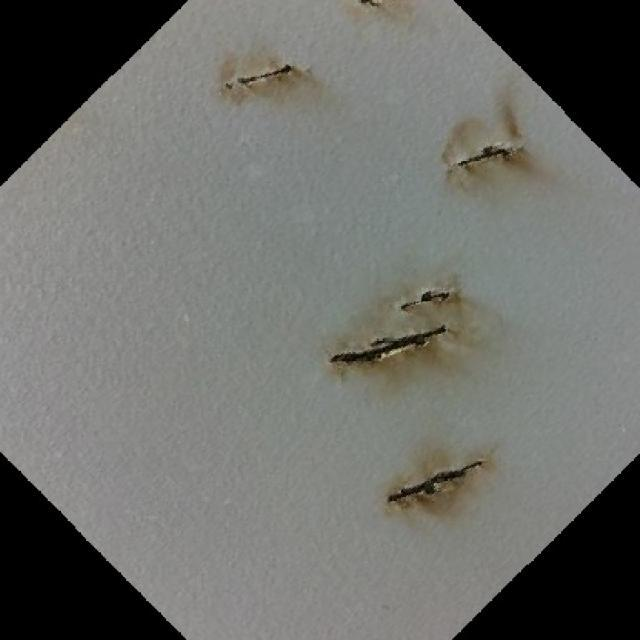crack: (330, 327, 450, 360), (393, 461, 487, 497), (230, 64, 295, 86), (457, 146, 517, 169), (404, 289, 453, 311)
